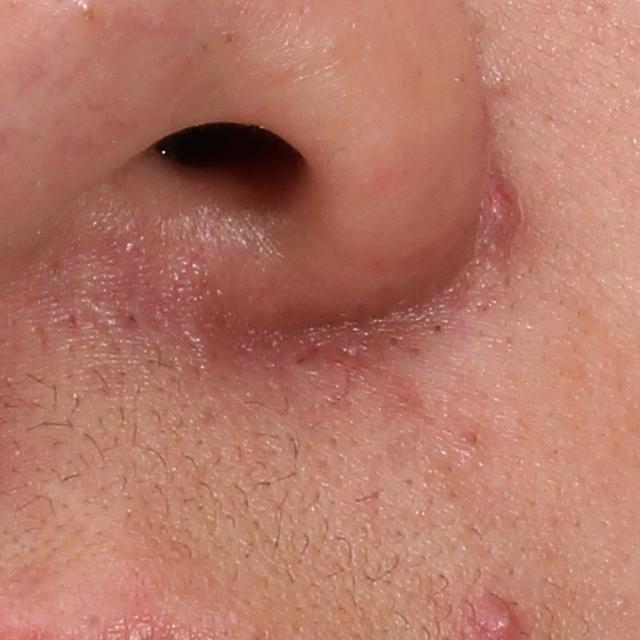comedo: (429, 319, 446, 338)
